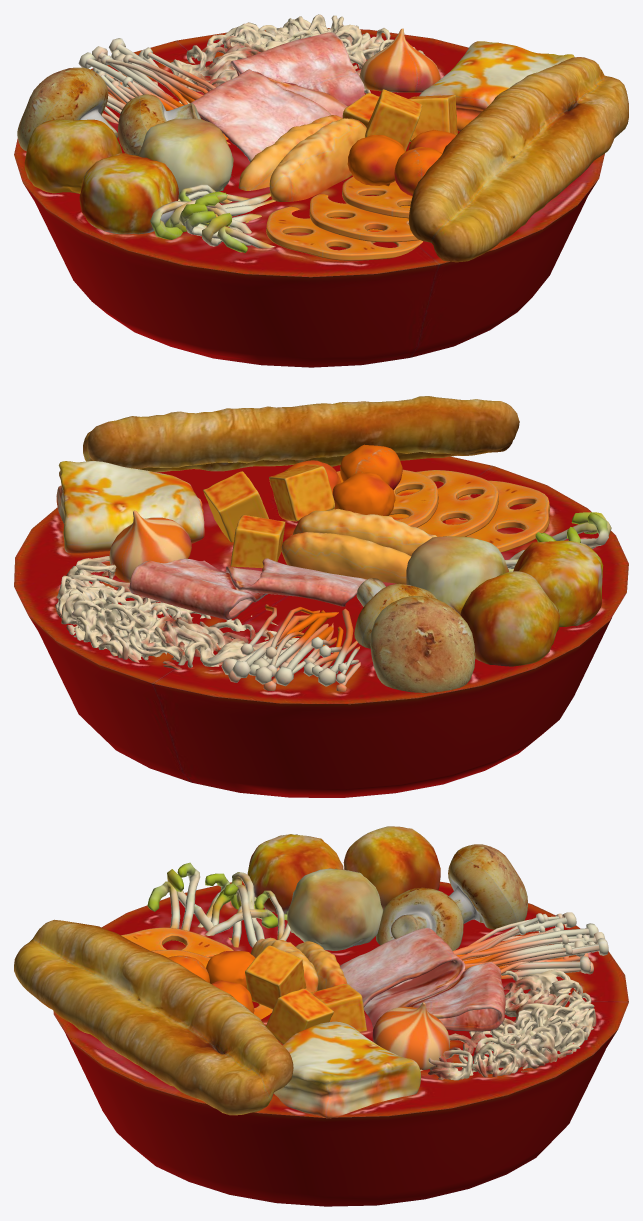
Rendered from food.glb.
3 renders of one model, top to bottom at view 1: azimuth 30°, elevation 25°; view 2: azimuth 150°, elevation 25°; view 3: azimuth 270°, elevation 25°, orthographic. The views are drawn at different scales.
Visible parts, largest first — view 1: _______006, _______013, _______012, _______011, _______010, _______007, _______009, _______008; view 2: _______006, _______012, _______013, _______011, _______010, _______008, _______009, _______007; view 3: _______006, _______013, _______011, _______012, _______007, _______008, _______009, _______010.
Boxes of the visible parts, x1,y1,x2,y2 form: _______006: (14,28,604,367); _______013: (359,28,628,262); _______012: (24,115,456,234); _______011: (190,32,574,162); _______010: (266,89,457,260); _______007: (78,38,275,252); _______009: (17,67,201,155); _______008: (170,14,424,103); _______006: (14,456,628,797); _______012: (281,444,603,666); _______013: (83,396,519,582); _______011: (56,461,366,620); _______010: (203,464,550,568); _______008: (54,556,299,670); _______009: (354,578,475,692); _______007: (221,512,611,691); _______006: (53,881,628,1206); _______013: (14,919,450,1115); _______011: (273,927,505,1118); _______012: (168,826,440,1013); _______007: (147,862,608,978); _______008: (420,969,596,1080); _______009: (376,844,527,950); _______010: (121,927,366,1044).
Bounding box in the file's own units: 0.3574 × 0.1266 × 0.37.
Materials: 8 (8 with a texture image).
